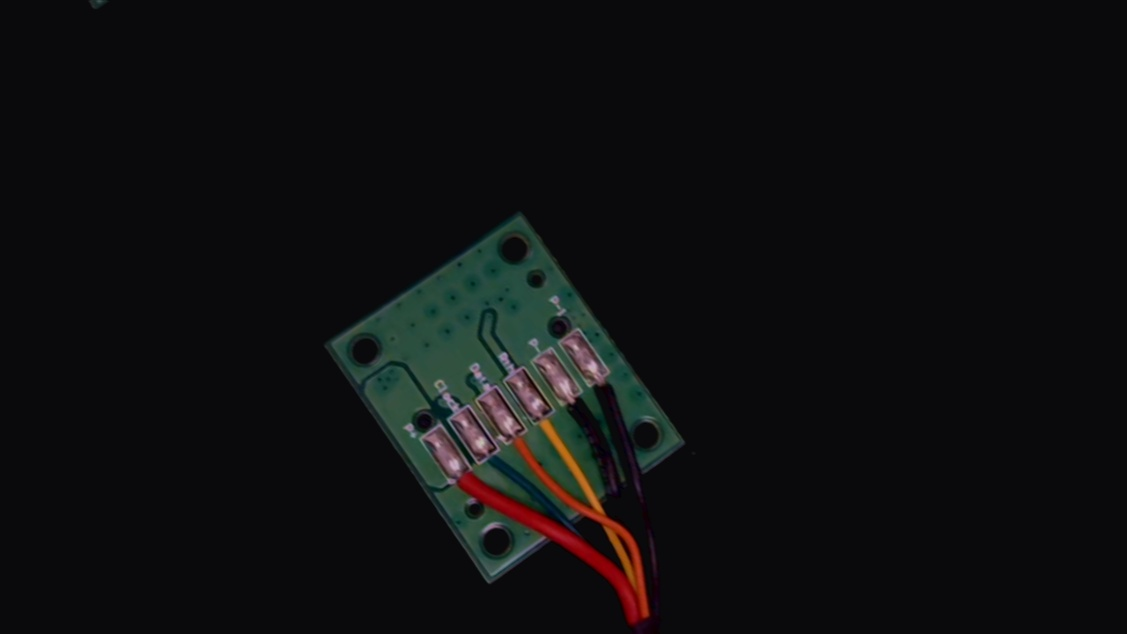Black: (551, 377, 612, 447)
Black1: (579, 358, 637, 423)
Green: (470, 434, 524, 495)
Orange: (495, 418, 555, 486)
Red: (439, 457, 499, 524)
Yellow: (522, 397, 583, 468)
